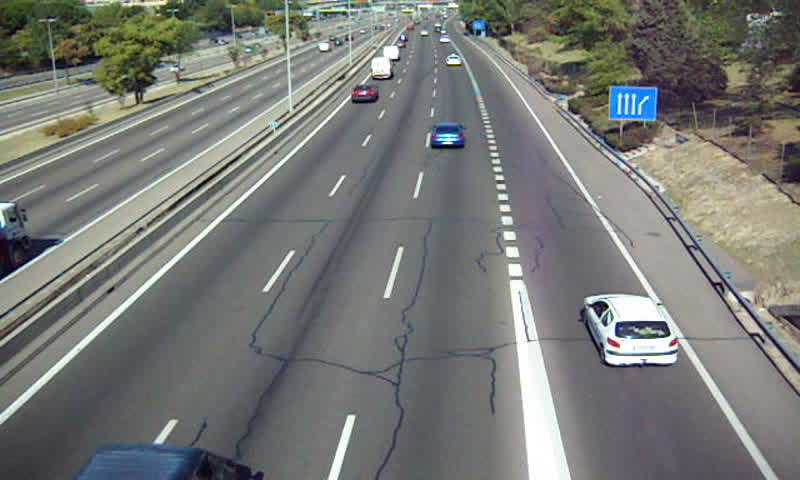car: (584, 294, 680, 369), (428, 121, 468, 149), (349, 84, 378, 104)
van: (369, 57, 394, 80), (384, 45, 400, 60)
